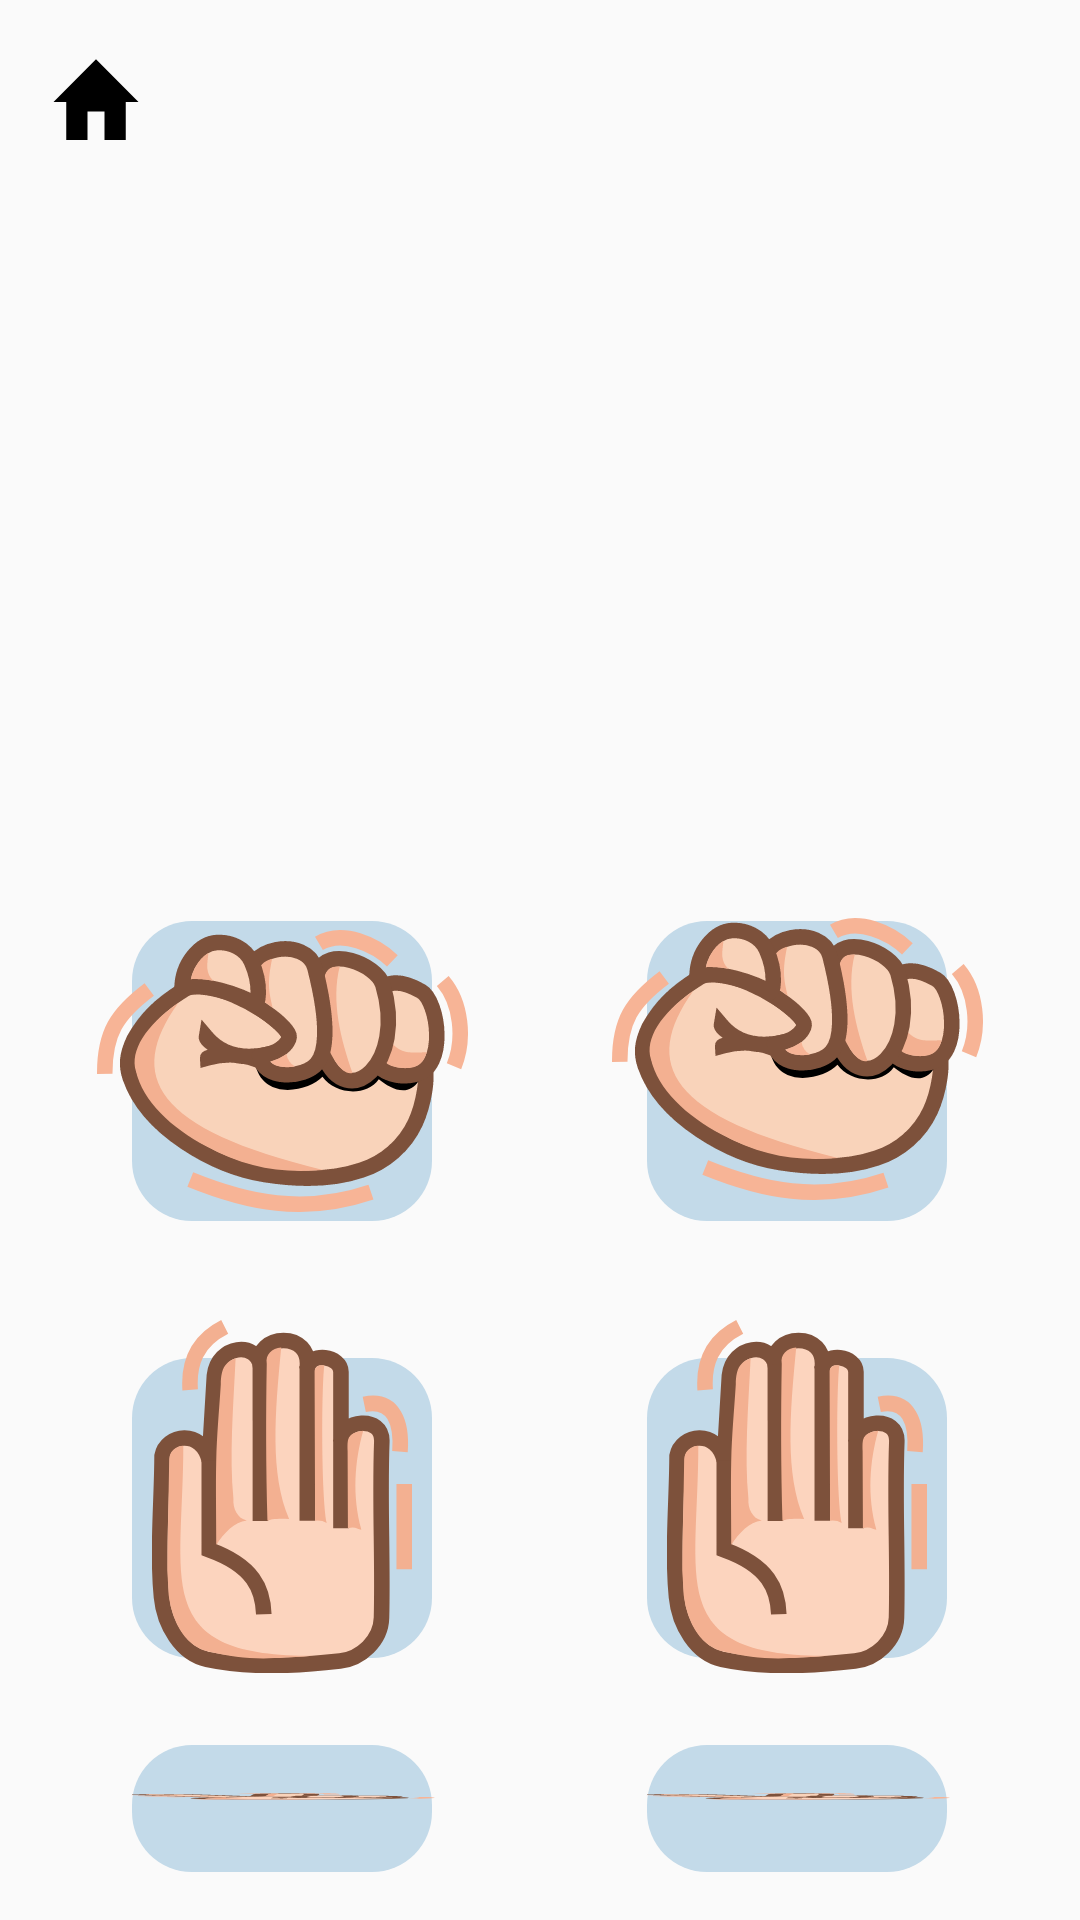

Where to tap for icons on this 1080w x 1920h app screen, as (x=x, y=y):
home: (x=96, y=99)
kertas: (x=282, y=1496), (x=797, y=1496)
